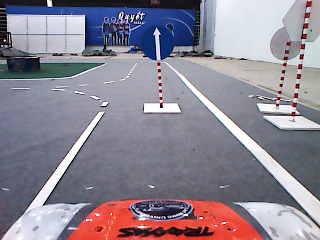straight: (140, 25, 176, 62)
